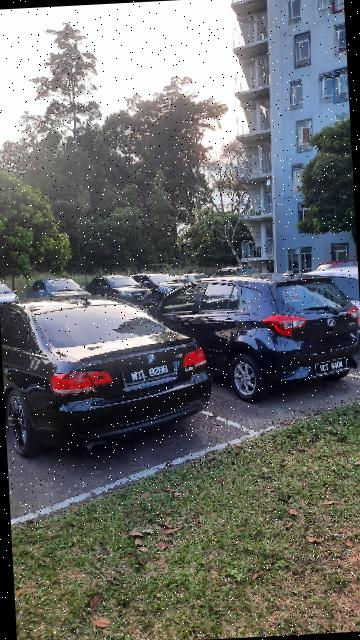License_Plate: (117, 358, 183, 387), (313, 353, 353, 379)
car: (1, 291, 218, 461), (166, 267, 360, 407)
